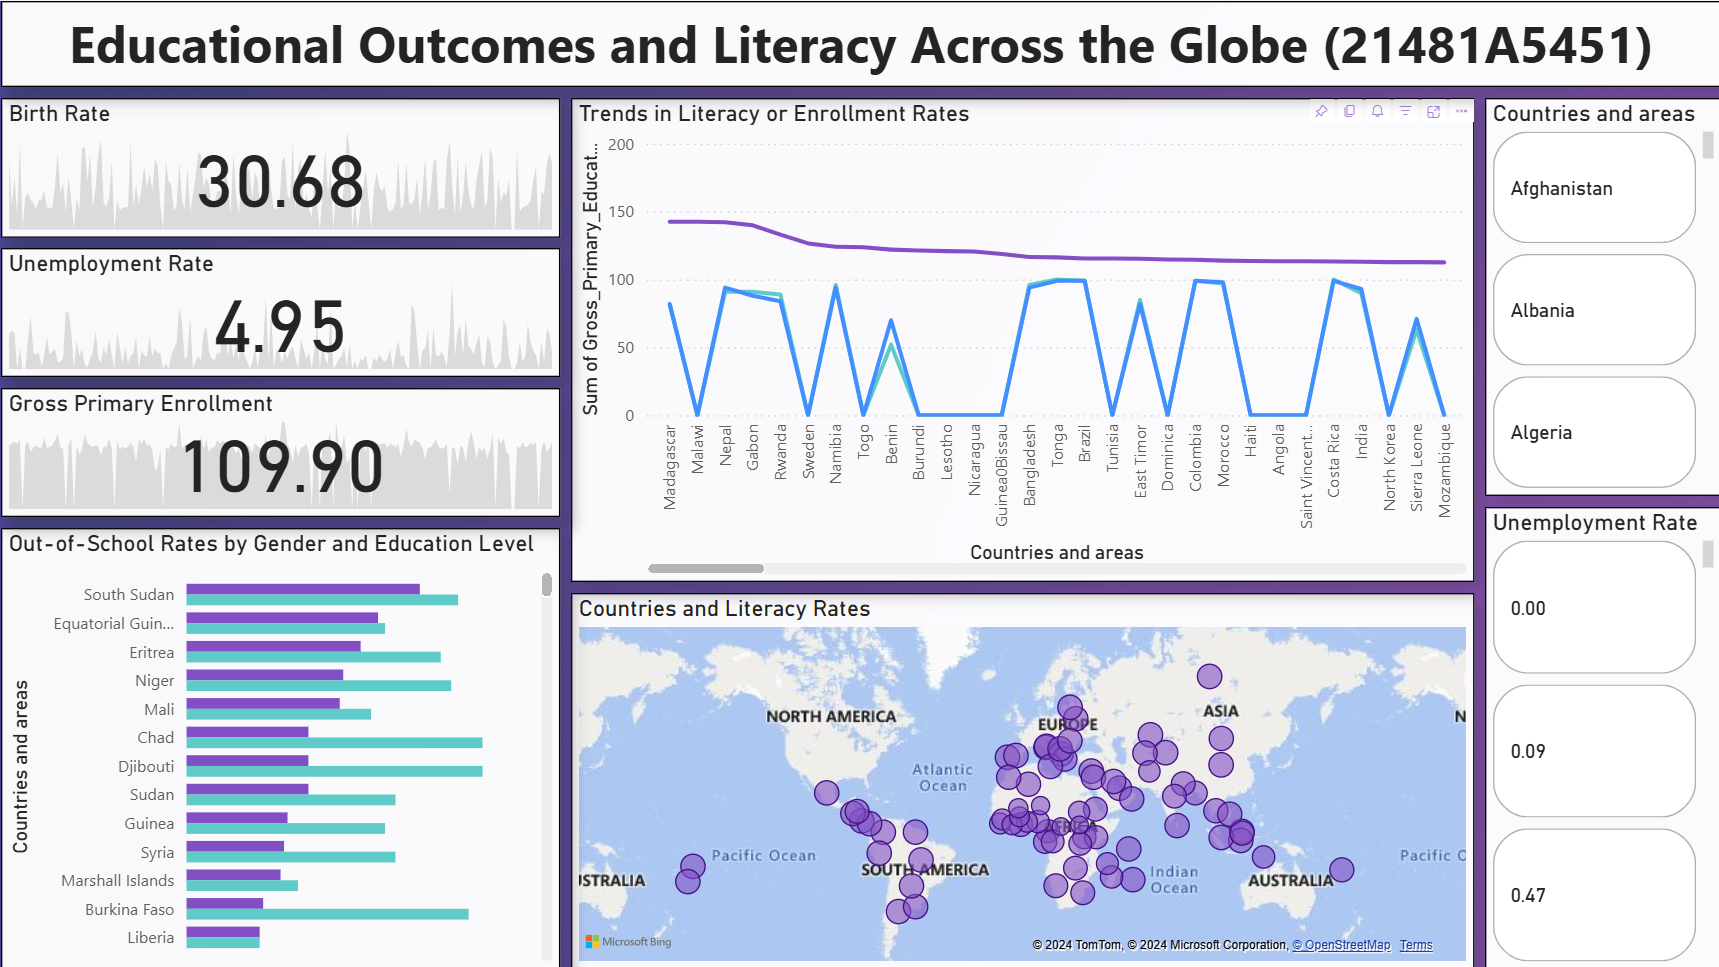

This screenshot's page, from the dashboard's own definition file:
{"tool":"powerbi","page":{"name":"Page 1","canvas":[1280,720],"ordinal":0},"visuals":[{"type":"map","title":"Countries and Literacy Rates","fields":{"Category":["Global_Education.Countries and areas"],"Size":["Sum(Global_Education.Youth_15_24_Literacy_Rate_Male)"]},"box":[424,440,672,280],"z":0},{"type":"clusteredBarChart","title":"Out-of-School Rates by Gender and Education Level","fields":{"Category":["Global_Education.Countries and areas"],"Y":["Sum(Global_Education.OOSR_Primary_Age_Female)","Sum(Global_Education.OOSR_Pre0Primary_Age_Male)"]},"box":[0,392,416,328],"z":1000},{"type":"lineChart","title":"Trends in Literacy or Enrollment Rates","fields":{"Category":["Global_Education.Countries and areas"],"Y":["Sum(Global_Education.Gross_Primary_Education_Enrollment)","Sum(Global_Education.Youth_15_24_Literacy_Rate_Female)","Sum(Global_Education.Youth_15_24_Literacy_Rate_Male)"]},"box":[424,72,672,360],"z":2000},{"type":"kpi","title":"Birth Rate","fields":{"Indicator":["Sum(Global_Education.Birth_Rate)"],"TrendLine":["Global_Education.Countries and areas"]},"box":[0,72,416,104],"z":3000},{"type":"kpi","title":"Unemployment Rate","fields":{"TrendLine":["Global_Education.Countries and areas"],"Indicator":["Sum(Global_Education.Unemployment_Rate)"]},"box":[0,184,416,96],"z":4000},{"type":"kpi","title":"Gross Primary Enrollment","fields":{"TrendLine":["Global_Education.Countries and areas"],"Indicator":["Sum(Global_Education.Gross_Primary_Education_Enrollment)"]},"box":[0,288,416,96],"z":5000},{"type":"textbox","box":[0,0,1280,64],"z":6000},{"type":"advancedSlicerVisual","fields":{"Values":["Global_Education.Countries and areas"]},"box":[1104,72,176,296],"z":7000},{"type":"advancedSlicerVisual","title":"Unemployment Rate","fields":{"Values":["Global_Education.Unemployment_Rate"]},"box":[1104,376,176,344],"z":8000}]}

Visuals, with their boxes in screenshot pixels (x1, y1, x2, y2), scaled from the page's 1280x720 canvas onto the 1719x967 screenshot:
"Countries and Literacy Rates" map: 569, 591, 1472, 966
"Out-of-School Rates by Gender and Education Level" clusteredBarChart: 0, 526, 559, 966
"Trends in Literacy or Enrollment Rates" lineChart: 569, 97, 1472, 580
"Birth Rate" kpi: 0, 97, 559, 236
"Unemployment Rate" kpi: 0, 247, 559, 376
"Gross Primary Enrollment" kpi: 0, 387, 559, 516
textbox: 0, 0, 1718, 86
advancedSlicerVisual - Global_Education.Countries and areas: 1483, 97, 1718, 494
"Unemployment Rate" advancedSlicerVisual: 1483, 505, 1718, 966
